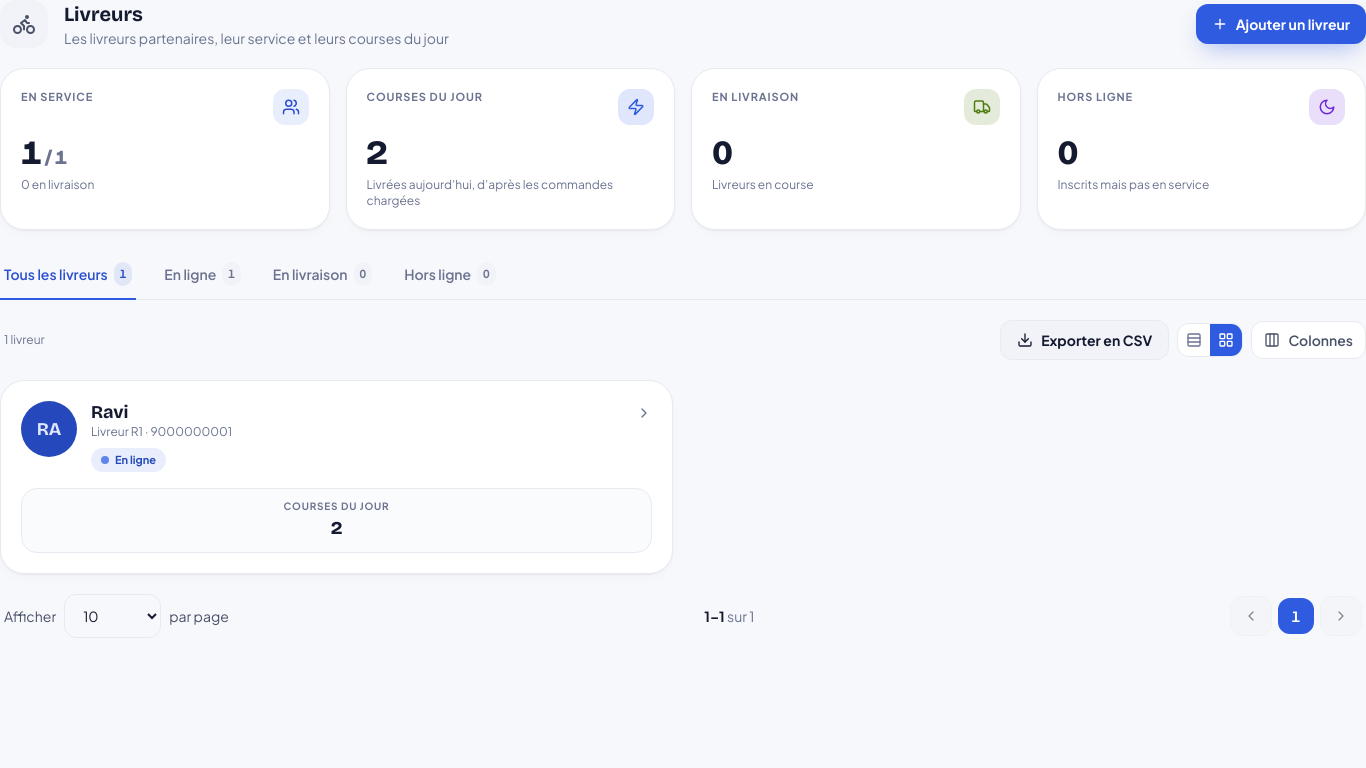
Test case: WEB-02 DriverManager shows only numbers that are computed › no payouts, completion time, on-time rate or default rating; trips today come from delivered orders (India time)
This screenshot has width=1366, height=768.
Expected: the text "Versement" is not shown
Expected: the text "2" is shown, [366, 132, 387, 173]
Click the button with aria-label "Ouvrir le détail de Ravi" at (49,429), box [0, 380, 673, 574]
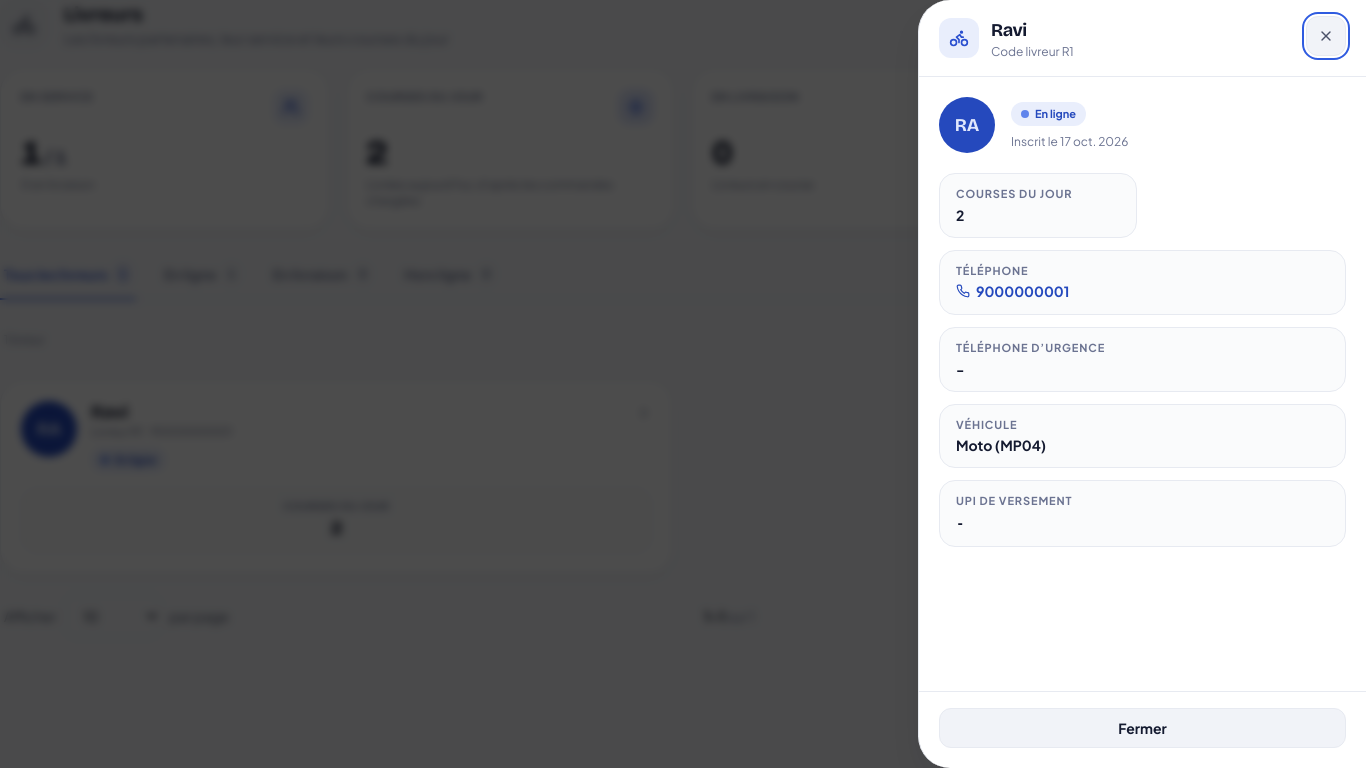
Now the dialog shows "Courses du jour", box [956, 187, 1072, 200]
